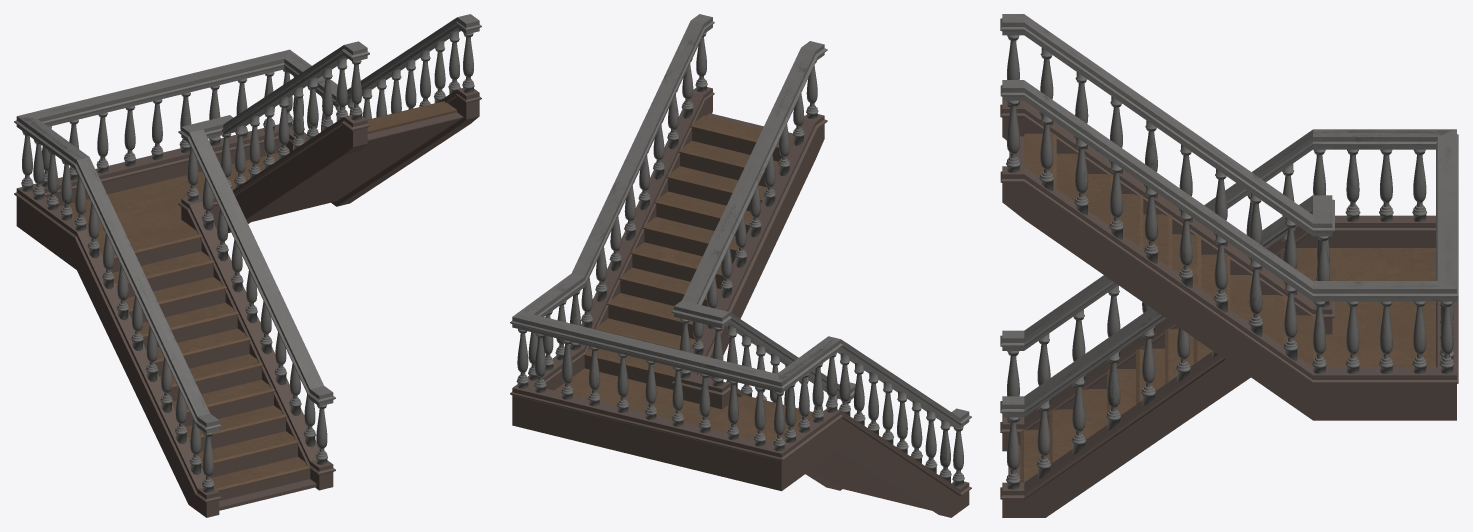
Rendered from SK4 STAIR INT.fbx.
3 views of the same model, side by side, from view 1: azimuth 30°, elevation 25°; view 2: azimuth 150°, elevation 25°; view 3: azimuth 270°, elevation 25° (orthographic). The views are drawn at different scales.
Parts seen in each view (by area): view 1: SK4 STAIR INT; view 2: SK4 STAIR INT; view 3: SK4 STAIR INT.
Part boxes in pixels (x1=…): SK4 STAIR INT: x1=14, y1=14, x2=481, y2=517; SK4 STAIR INT: x1=510, y1=14, x2=971, y2=517; SK4 STAIR INT: x1=1000, y1=14, x2=1458, y2=517.
Size of the model in its own units: 344 by 513 by 413.
